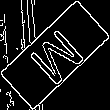M_SE: (22, 21, 88, 89)
